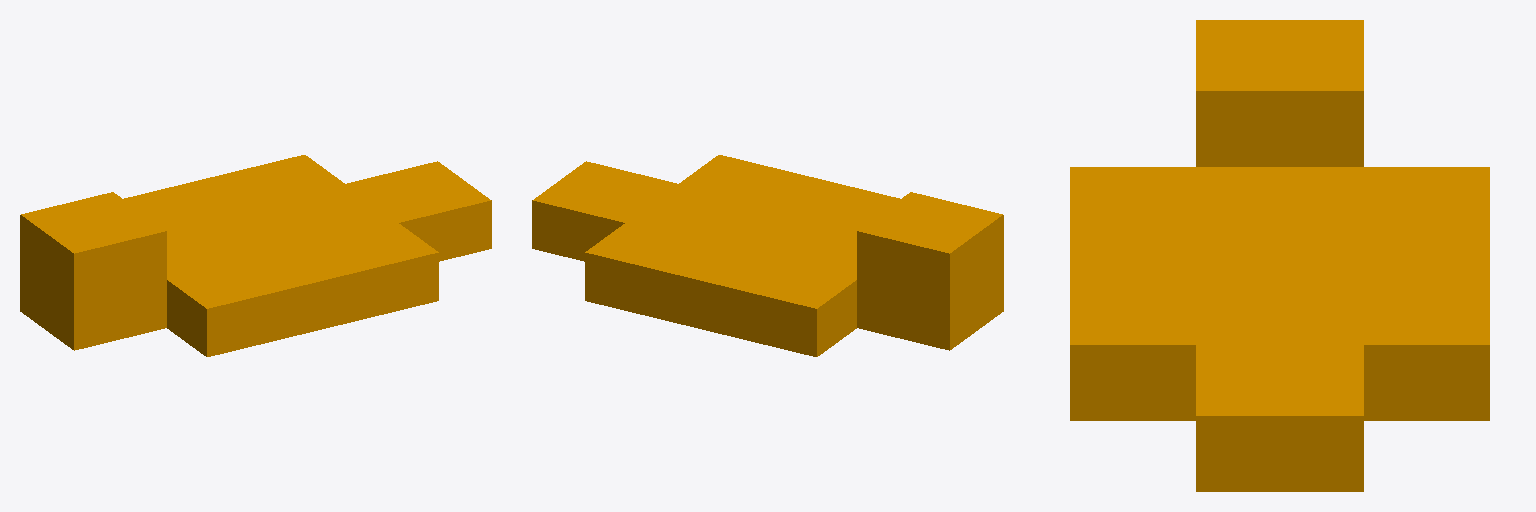
The robot description file, URDF, robot "your_robot_name":
<robot name="your_robot_name">
    <link name="base_link">
        <visual>
            <origin rpy="0 0 0" xyz="0 0 0" />
            <geometry>
                <mesh filename="stl/assemble_p1.stl" scale="0.001 0.001 0.001" />
            </geometry>
        </visual>
        <!-- <collision>
            <origin rpy="0 0 0" xyz="0 0 0" />
            <geometry>
                <mesh filename="stl/assemble_p1.stl" scale="0.001 0.001 0.001" />
            </geometry>
        </collision> -->
        <inertial>
            <origin rpy="0 0 0" xyz="0 0 0" />
            <mass value="0.5" />
            <inertia ixx="1" ixy="0" ixz="0" iyy="1" iyz="0" izz="1" />
        </inertial>
    </link>
</robot>

--- Render facts (derived) ---
Views: 3 orthographic renders of the robot side by side, from view 1: azimuth 30°, elevation 25°; view 2: azimuth 150°, elevation 25°; view 3: azimuth 270°, elevation 25°.
Model your_robot_name with 1 links and 0 joints (none), rooted at base_link, posed all joints at 0.
Visible links, largest first — view 1: base_link; view 2: base_link; view 3: base_link.
Boxes of the visible links, x1,y1,x2,y2 form: base_link: [20, 155, 491, 356]; base_link: [532, 155, 1003, 356]; base_link: [1070, 20, 1489, 491].
Size in the robot's own frame: 0.18 by 0.1 by 0.04 metres.
1 mesh visuals loaded from 1 distinct referenced files (1 binary STL).